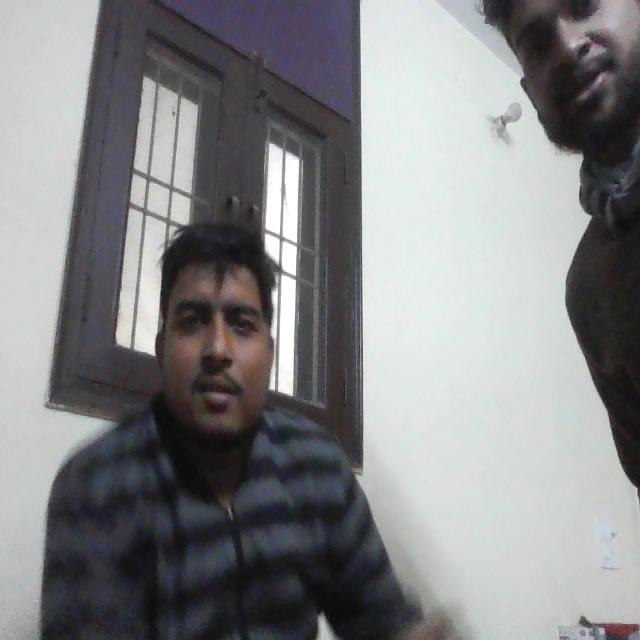real: (149, 188, 289, 452)
